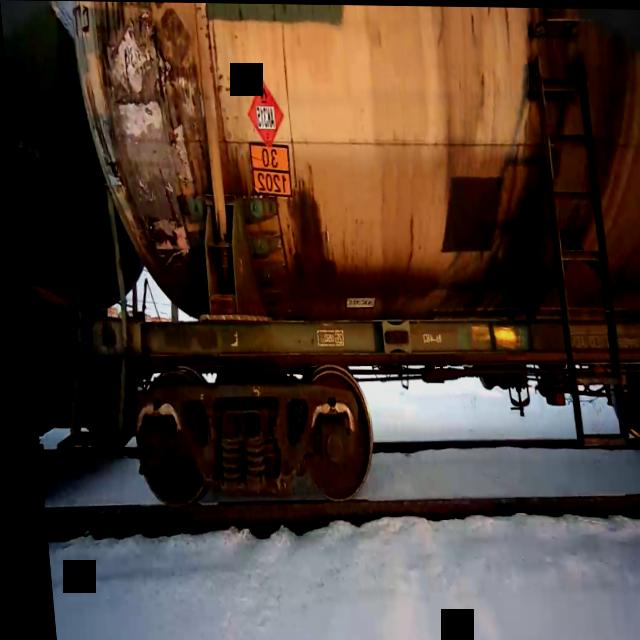tank: (52, 1, 640, 523)
